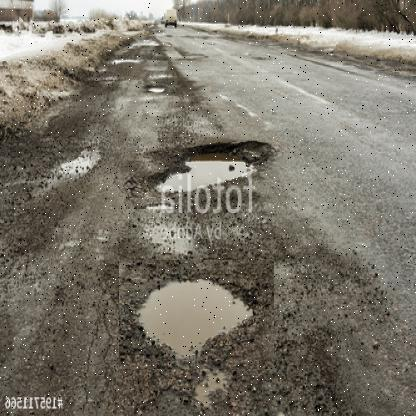pothole_water: (118, 260, 274, 370), (134, 124, 275, 206)
